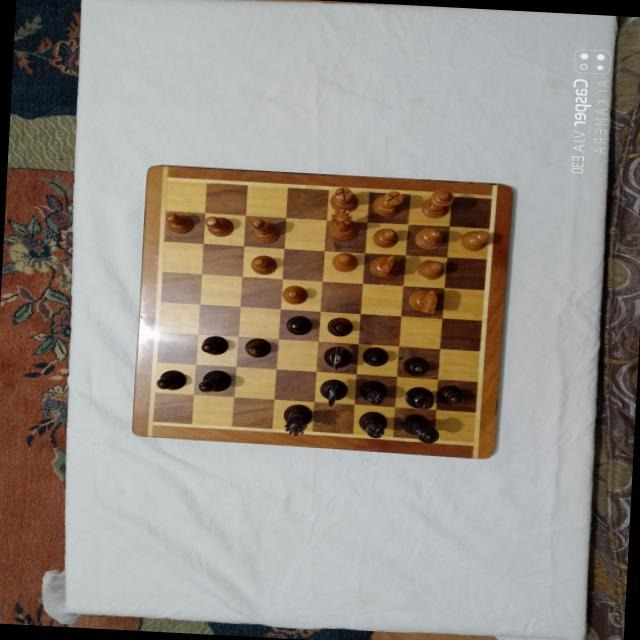black-bishop: (196, 368, 231, 394), (403, 385, 435, 411)
black-king: (399, 412, 441, 444)
black-knight: (318, 378, 349, 406), (322, 344, 353, 372)
black-pawn: (155, 368, 187, 391), (200, 333, 230, 354), (402, 355, 430, 377), (436, 384, 465, 404), (244, 337, 272, 357), (285, 315, 313, 335), (326, 316, 354, 336), (361, 346, 389, 366)
black-queen: (281, 402, 315, 436)
black-rook: (356, 409, 387, 439), (357, 379, 388, 405)
white-bishop: (248, 217, 280, 243), (414, 226, 444, 249)
white-king: (420, 185, 456, 218)
white-knight: (406, 287, 437, 313), (369, 252, 399, 278)
white-pawn: (164, 211, 195, 233), (203, 215, 234, 237), (460, 229, 490, 251), (372, 227, 400, 248), (418, 259, 446, 280), (331, 250, 358, 271), (250, 254, 278, 274), (282, 284, 308, 304)
white-queen: (327, 207, 360, 240)
white-rook: (371, 188, 404, 216), (330, 184, 360, 211)
